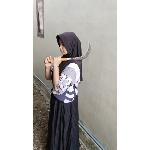Celurit: (45, 41, 93, 65)
